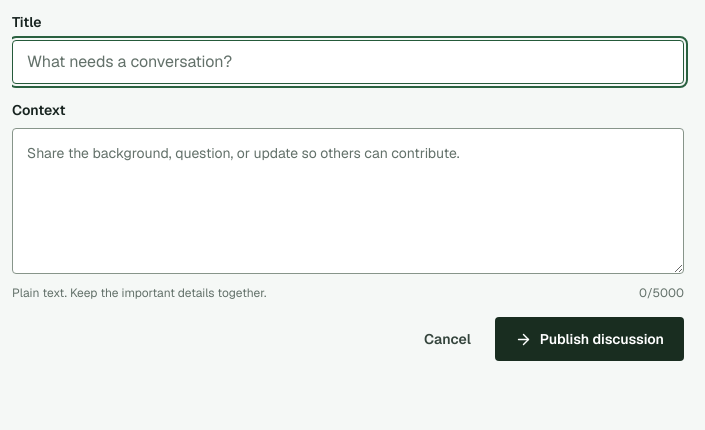
Test case: CreateDiscussionForm › associates shared-schema validation with title and body
This screenshot has width=705, height=430.
Click the button "Publish discussion".
click(589, 339)  # box top-left (495, 317), bottom-right (684, 361)
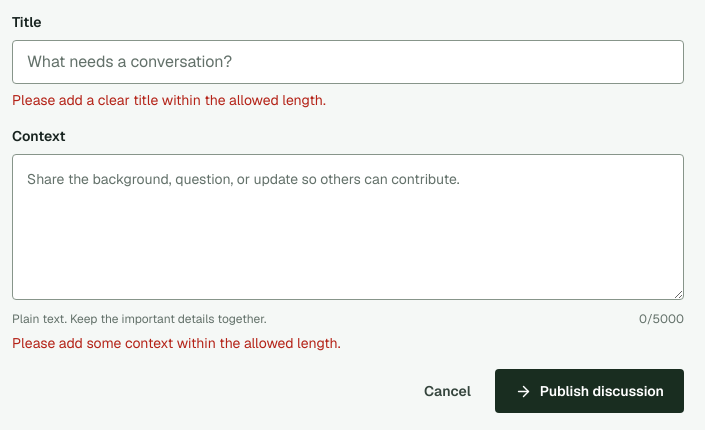
Check: the text "Please add a clear title within the allowed length." is shown, box top-left (12, 91), bottom-right (326, 109)
